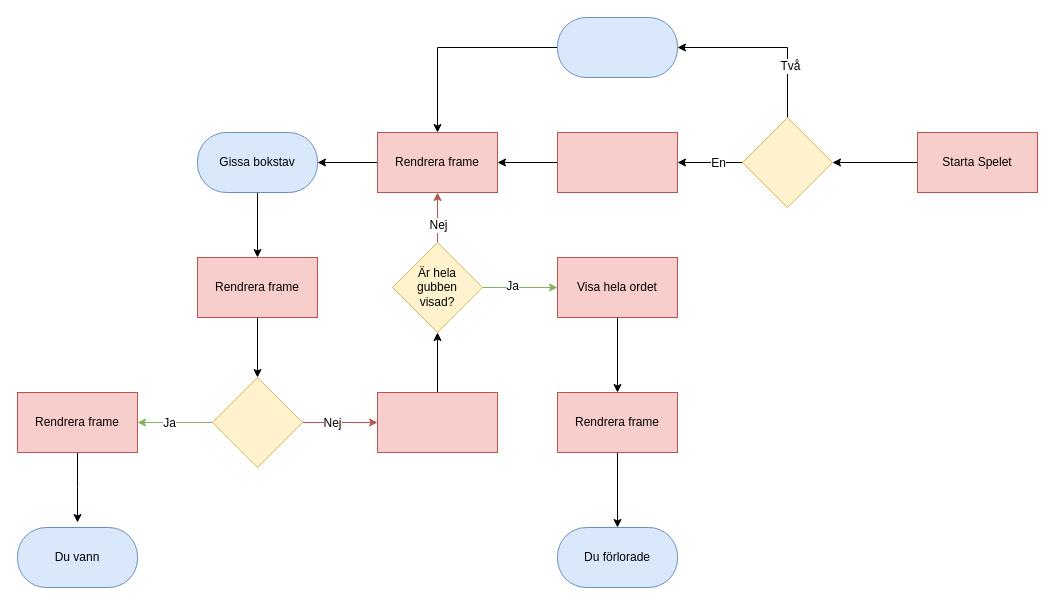
This 1055x605 diagram has some shape labels left out. Here are the shapes that lost their labels. From the top down, the centre of each, then its label:
the point at 617,47: Spelare 2 skriver ett ord
the point at 617,162: Generera nytt ord
the point at 787,162: En eller två spelare
the point at 257,422: Är hela ordet visat?
the point at 437,422: Visa nästa del av gubben
